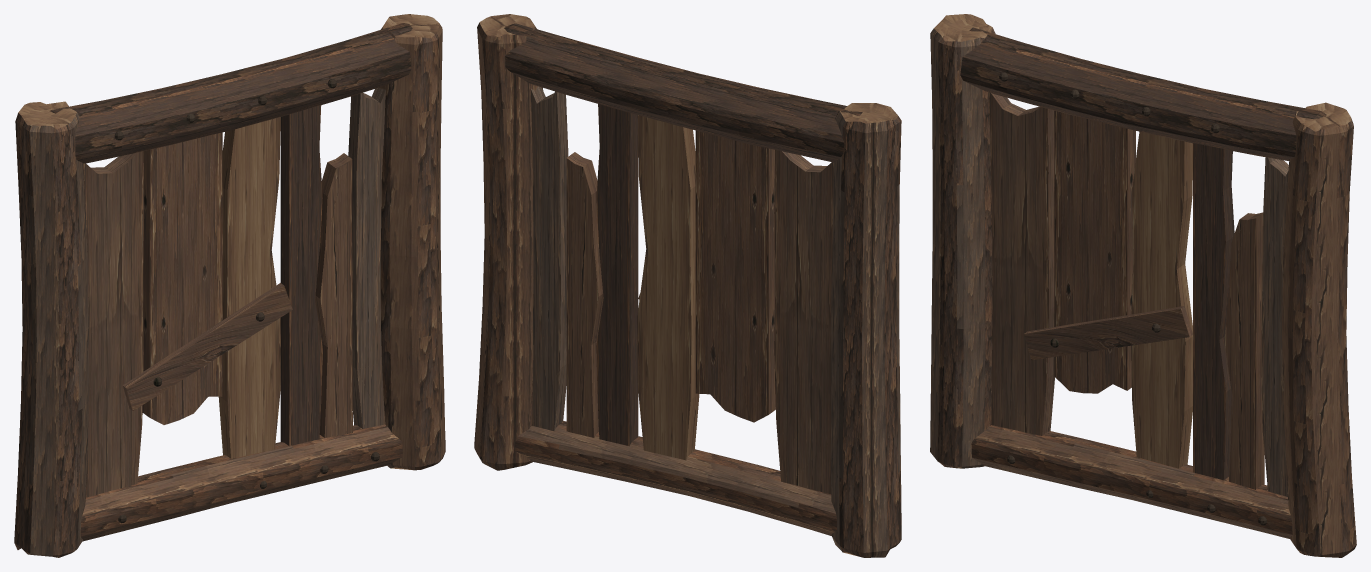
File: wall_old.glb
3 renders of one model, left to right at view 1: azimuth 30°, elevation 25°; view 2: azimuth 150°, elevation 25°; view 3: azimuth 330°, elevation 25°, orthographic.
Visible parts, largest first — view 1: model; view 2: model; view 3: model.
Boxes of the visible parts, bbox=[...] form: model: bbox=[14, 14, 445, 557]; model: bbox=[474, 14, 901, 557]; model: bbox=[930, 14, 1356, 557].
Size of the model in its own units: 1.97 by 1.96 by 0.294.
16 materials, 16 textured.
